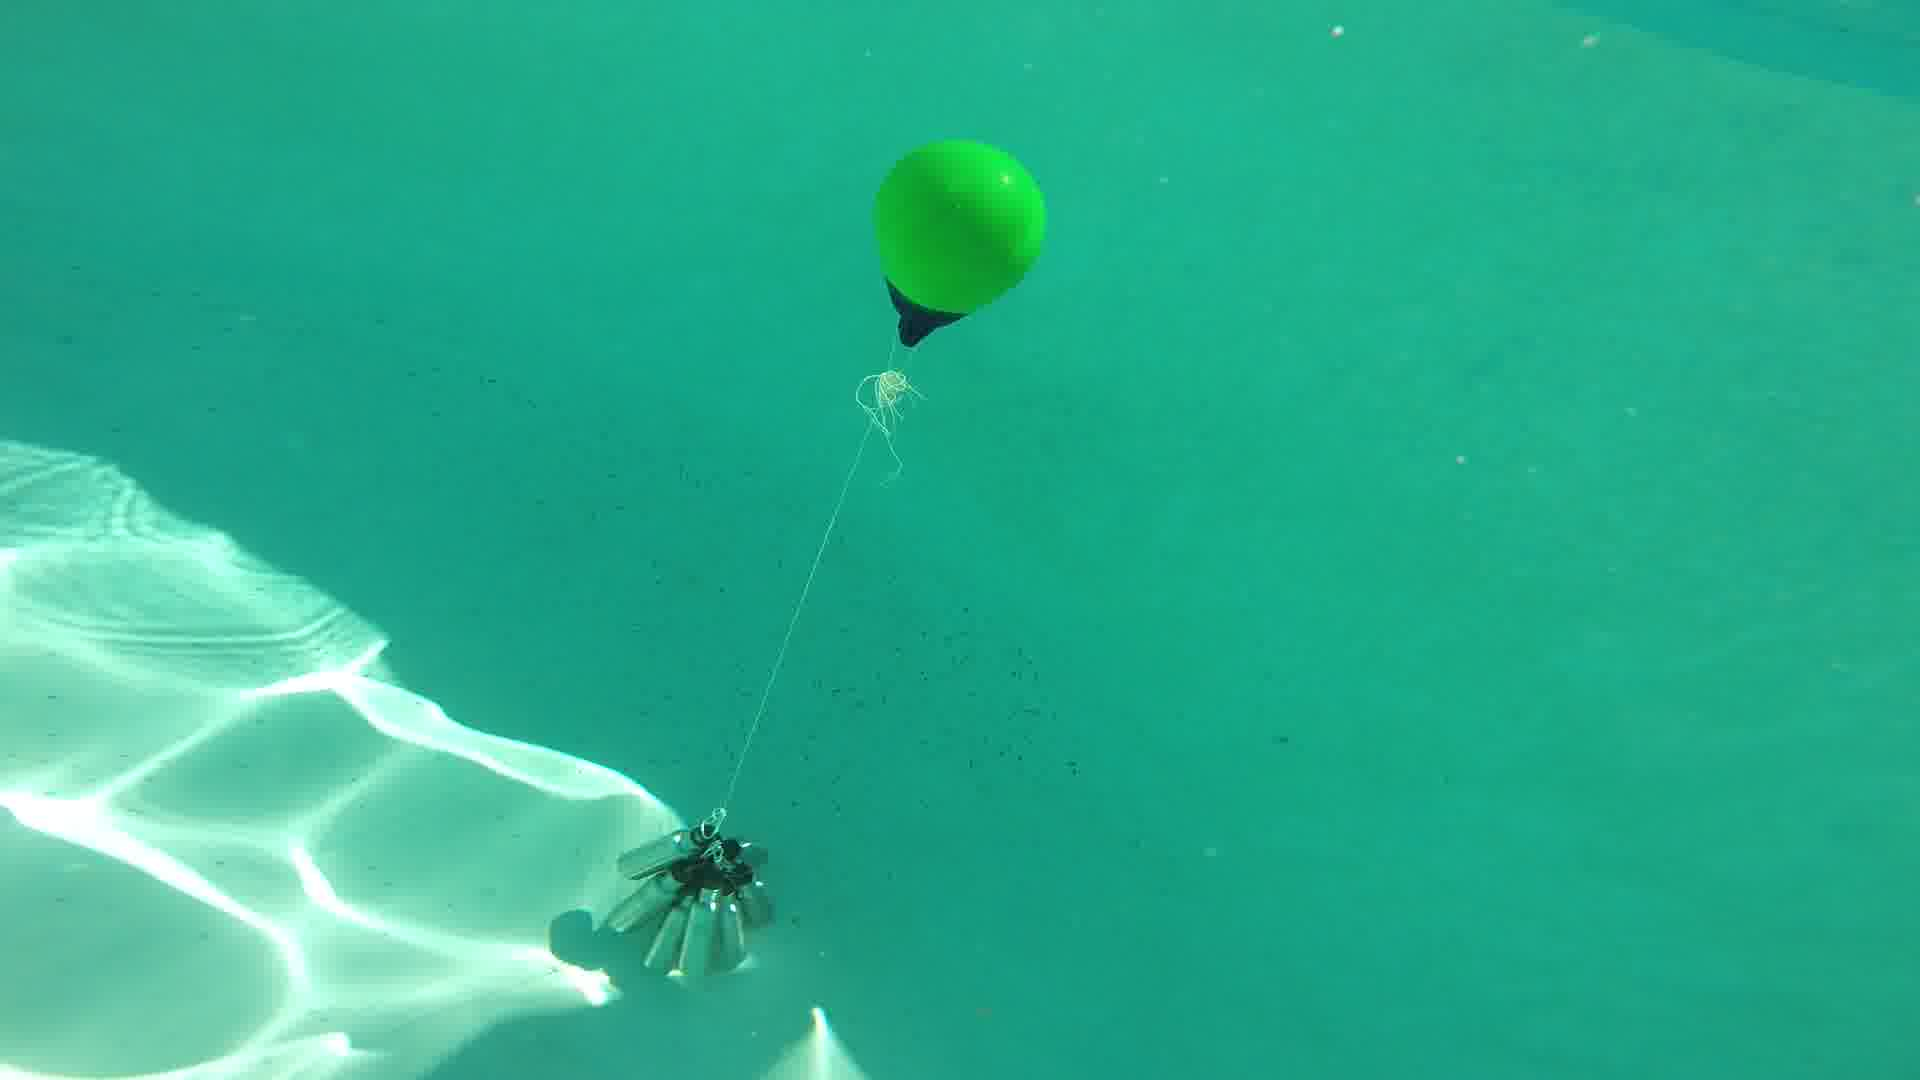yellow_buoy: (874, 141, 1050, 349)
